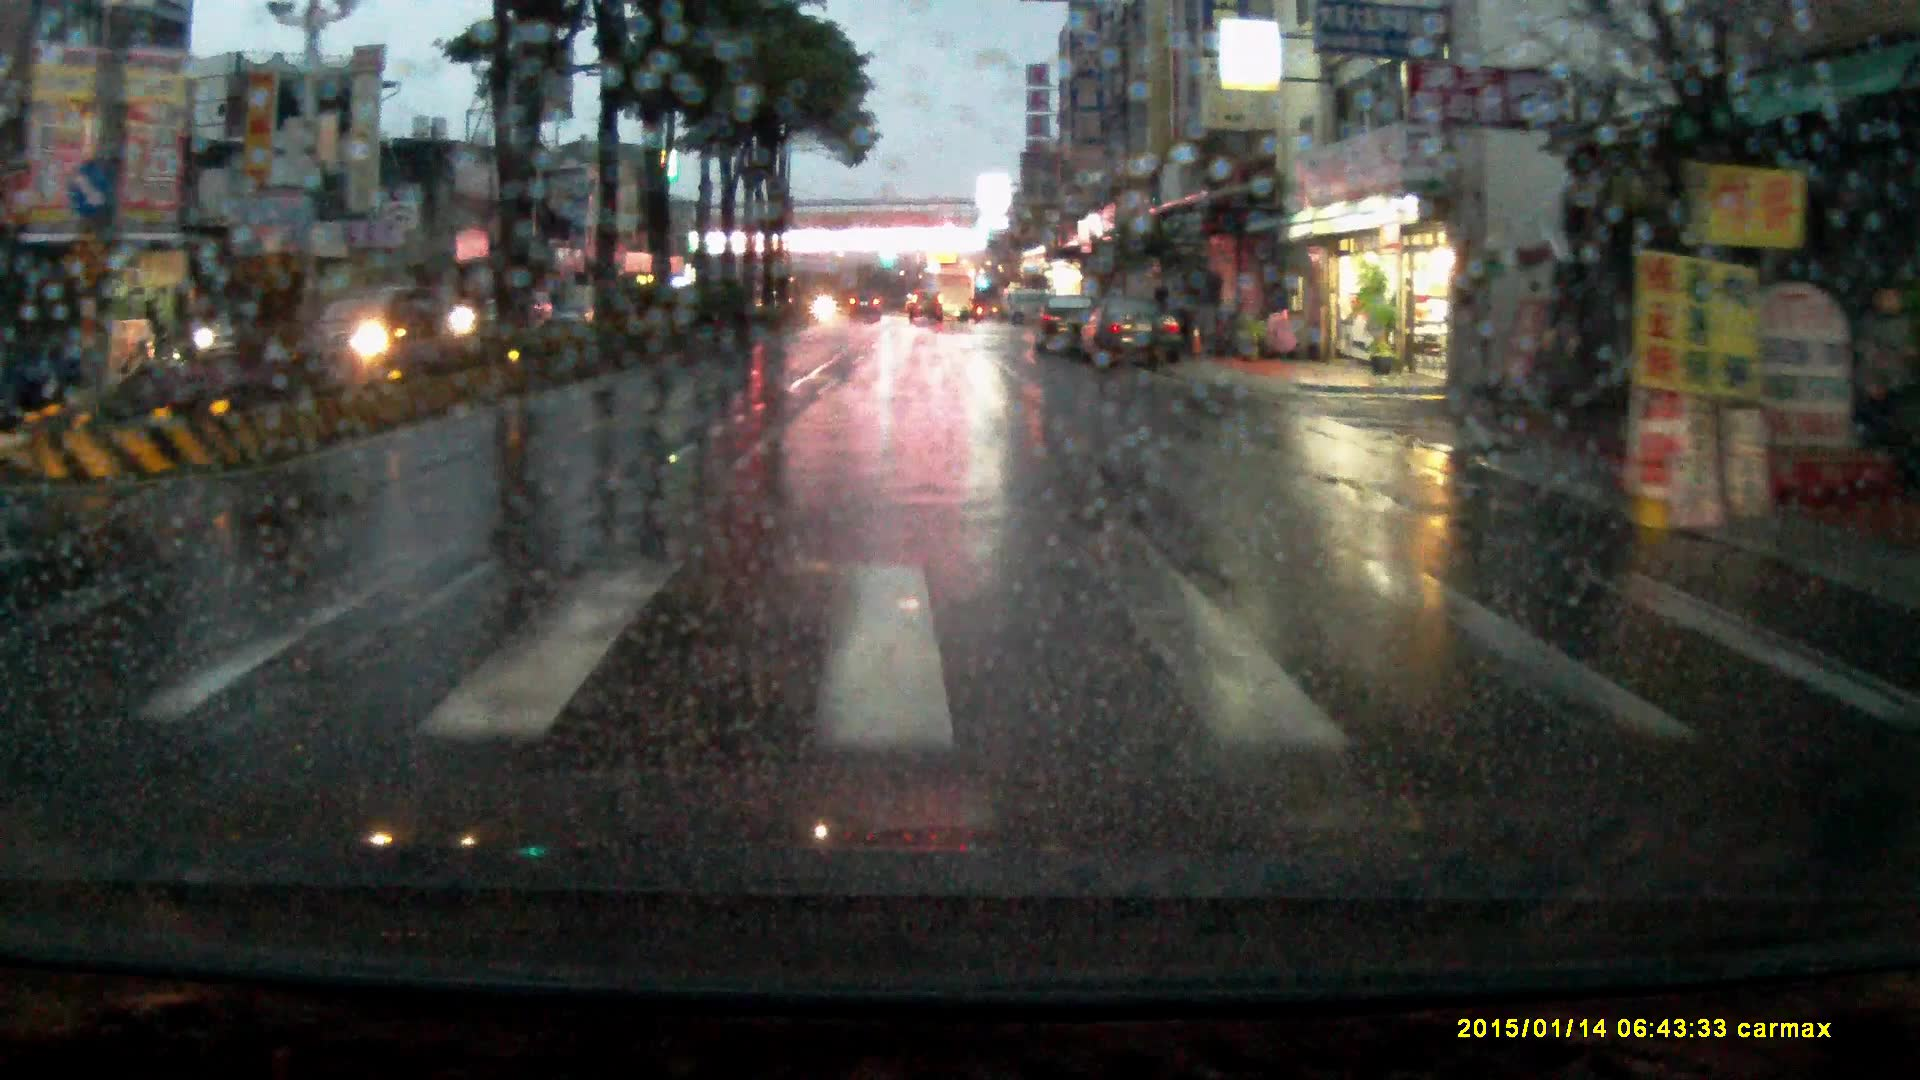rider: (442, 250, 511, 375)
vehicle: (1, 230, 188, 415), (307, 282, 462, 368), (1075, 300, 1185, 376), (197, 308, 263, 366), (1036, 298, 1096, 358), (923, 261, 974, 323), (910, 291, 946, 327), (850, 291, 881, 322)
